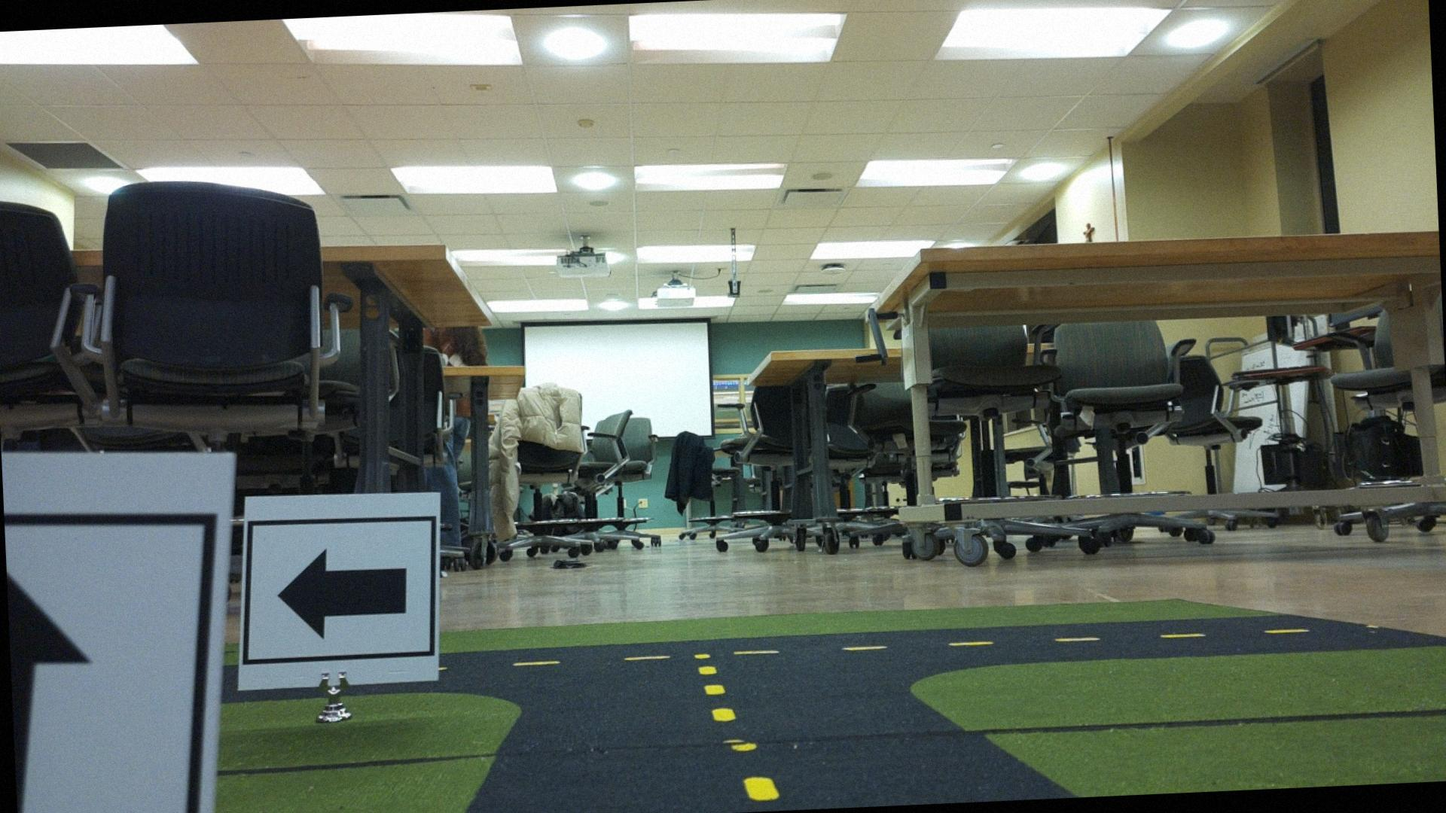turnleft: (239, 492, 438, 684)
yellowline: (700, 660, 779, 804)
